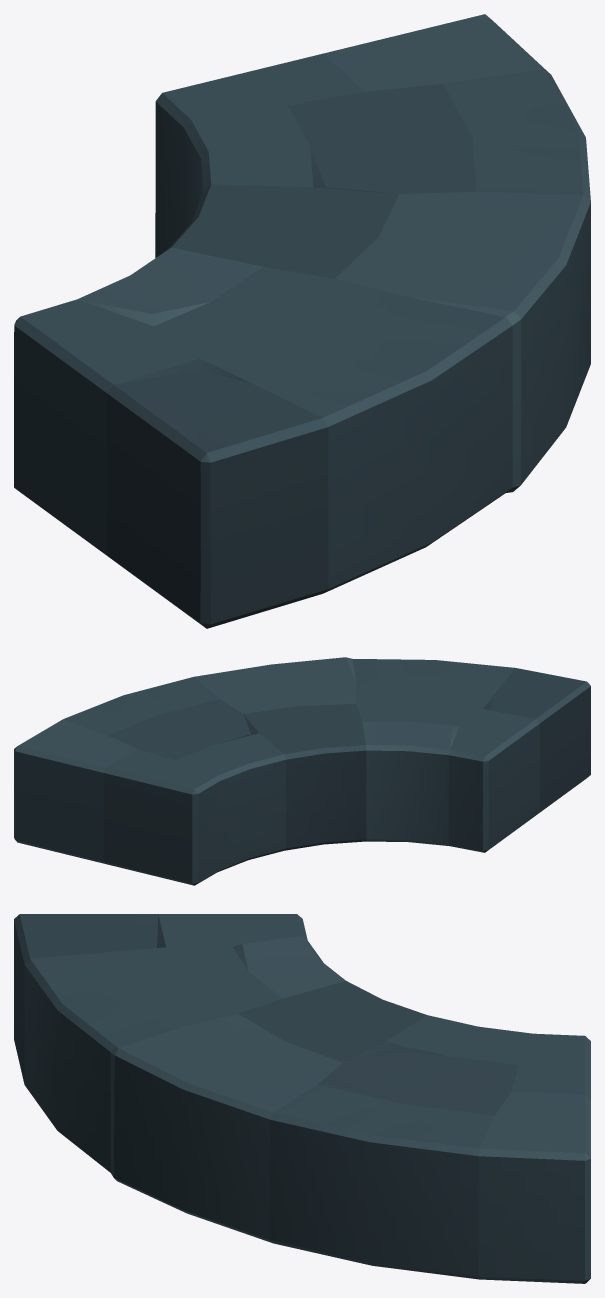
Rendered from stair_round_fill_1.fbx.
3 views of the same model, one above another, from view 1: azimuth 30°, elevation 25°; view 2: azimuth 150°, elevation 25°; view 3: azimuth 270°, elevation 25° (orthographic). The views are drawn at different scales.
Visible parts, largest first — view 1: stair_round_fill_1; view 2: stair_round_fill_1; view 3: stair_round_fill_1.
Part boxes in pixels (bbox=[...]): stair_round_fill_1: bbox=[14, 14, 590, 628]; stair_round_fill_1: bbox=[14, 657, 590, 885]; stair_round_fill_1: bbox=[14, 914, 590, 1283].
Size of the model in its own units: 400 by 105 by 400.
